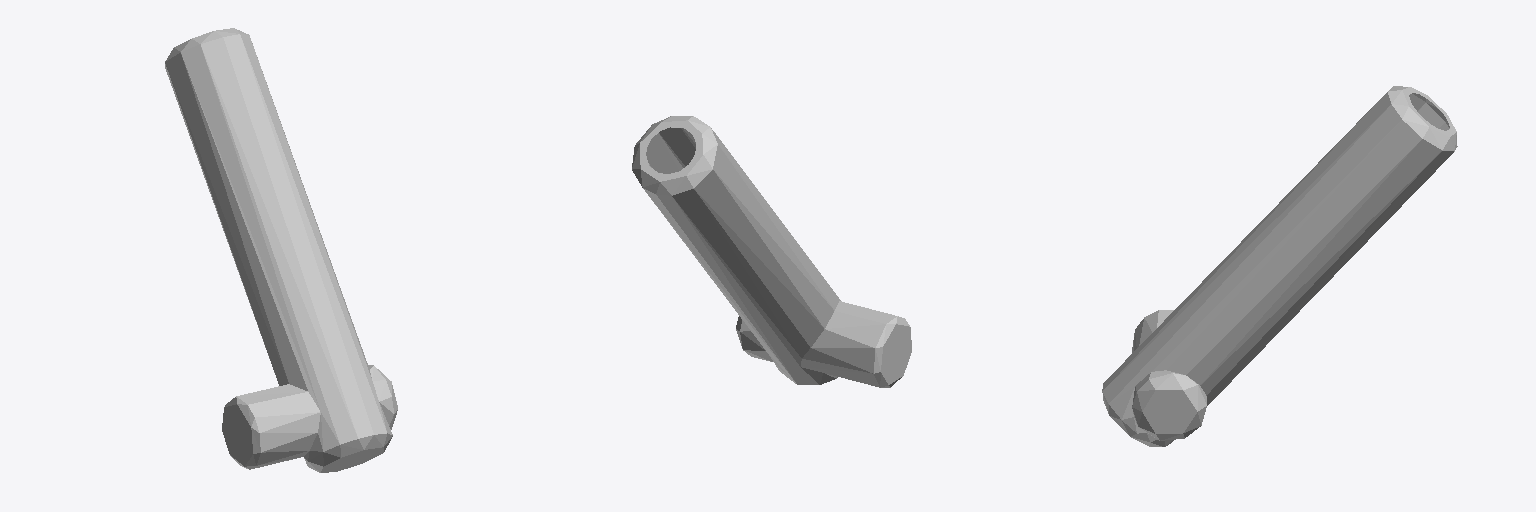
The model's file is camcase.obj.
The picture shows the model from 3 angles: view 1: azimuth 30°, elevation 25°; view 2: azimuth 150°, elevation 25°; view 3: azimuth 270°, elevation 25°; orthographic projection.
Parts seen in each view (by area): view 1: Cam_to_Cam_pushrod.001_Cam_to_Cam_pushrod.002; view 2: Cam_to_Cam_pushrod.001_Cam_to_Cam_pushrod.002; view 3: Cam_to_Cam_pushrod.001_Cam_to_Cam_pushrod.002.
Part boxes in pixels (x1,y1,x2,y2): Cam_to_Cam_pushrod.001_Cam_to_Cam_pushrod.002: (165, 28, 397, 472); Cam_to_Cam_pushrod.001_Cam_to_Cam_pushrod.002: (632, 116, 911, 387); Cam_to_Cam_pushrod.001_Cam_to_Cam_pushrod.002: (1102, 86, 1457, 446).
Size of the model in its own units: 0.0475 by 0.1084 by 0.0993.